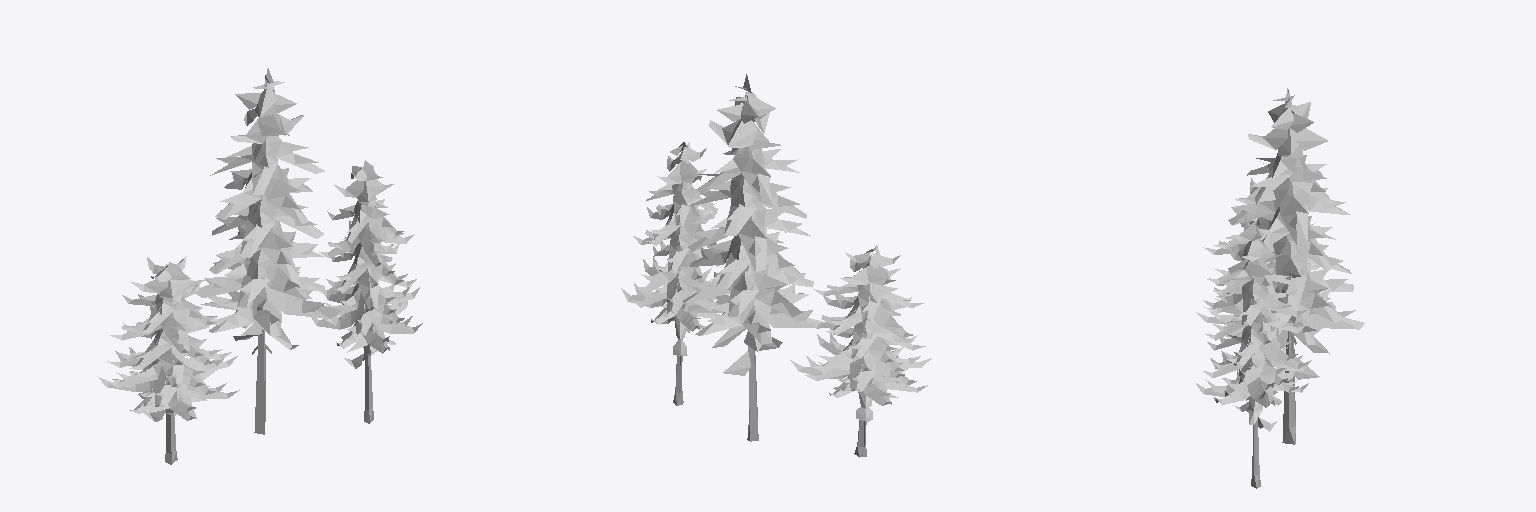
Rendered from Tree Cluster.obj.
3 renders of one model, left to right at view 1: azimuth 30°, elevation 25°; view 2: azimuth 150°, elevation 25°; view 3: azimuth 270°, elevation 25°, orthographic.
Visible parts, largest first — view 1: SM_LV_Soul_TreeCluster; view 2: SM_LV_Soul_TreeCluster; view 3: SM_LV_Soul_TreeCluster.
Part boxes in pixels (left/top/right/bottom): SM_LV_Soul_TreeCluster: left=98, top=68, right=422, bottom=464; SM_LV_Soul_TreeCluster: left=621, top=74, right=931, bottom=457; SM_LV_Soul_TreeCluster: left=1196, top=88, right=1364, bottom=488.
Bounding box in the file's own units: 1153 × 1332 × 567.